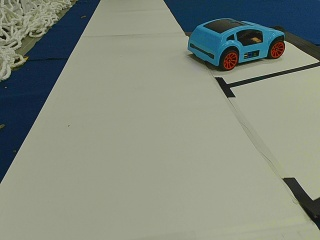car: (190, 19, 284, 70)
